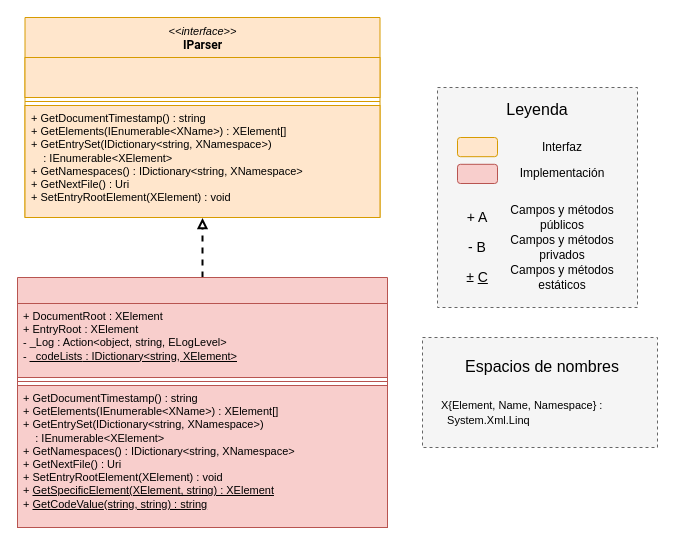
Some shapes in this 675 by 548 pixel diagram are drawn without their labels. The shapes that lost their labels are listed below. From the top down, each one's box as (x1, y1, x2, y2) in pixels, then its label:
(24, 56, 380, 98): + DocumentRoot : XElement + EntryRoot : XElement
(16, 276, 388, 528): Parser
